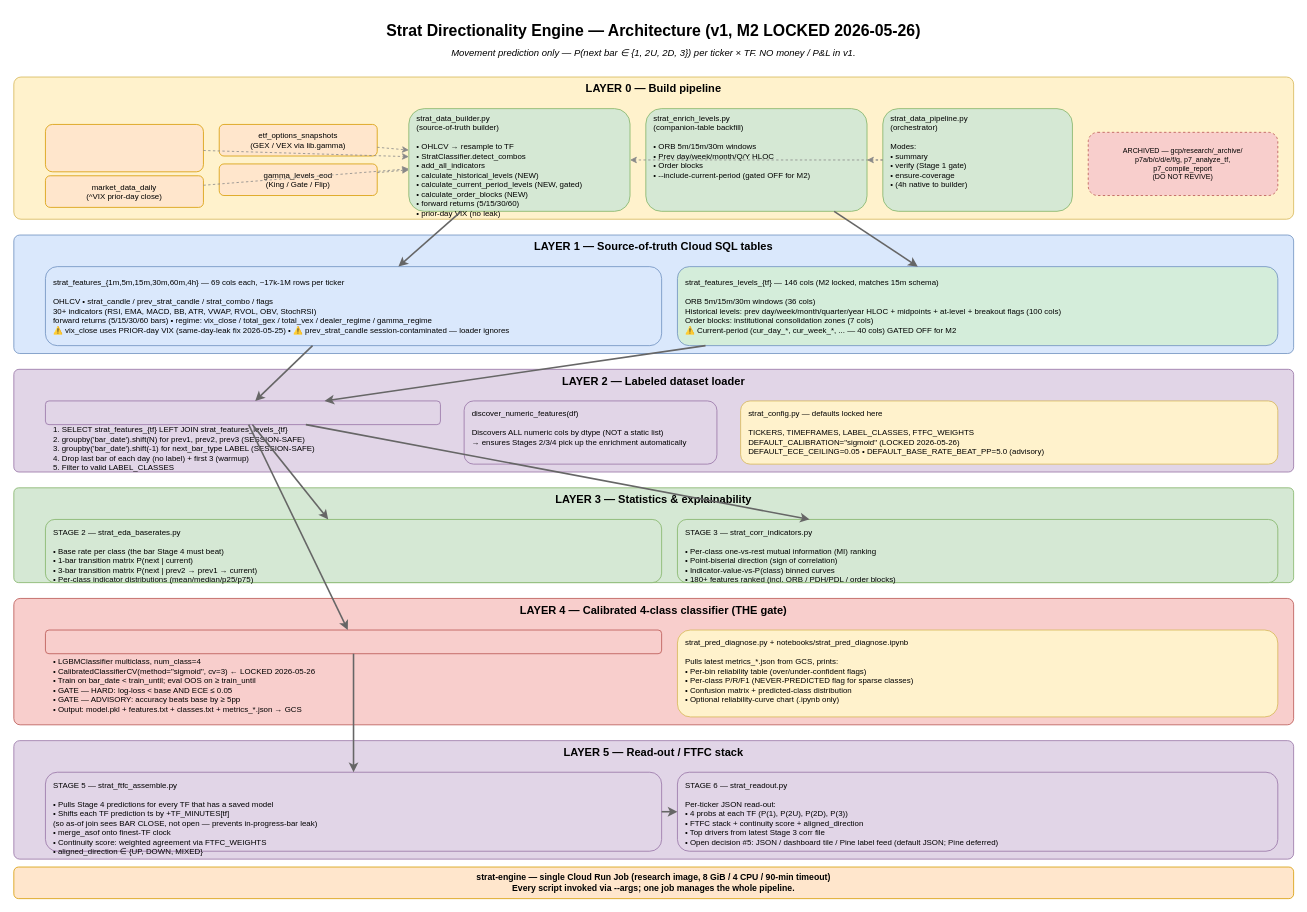
Image size: 1307x912. Some labels were removed from this diagram. Here are the shapes that lost their labels. From the top down, the centre of each, then its label:
At pixel 124 148: "market_data_intraday_* (1-min raw bars, Cloud SQL)".
At pixel 242 412: "strat_dataset.py :: load_labeled_dataset(ticker, tf, since, until)".
At pixel 353 641: "STAGE 4 — strat_pred_train.py (CalibratedClassifierCV wrapping LGBMClassifier)".
